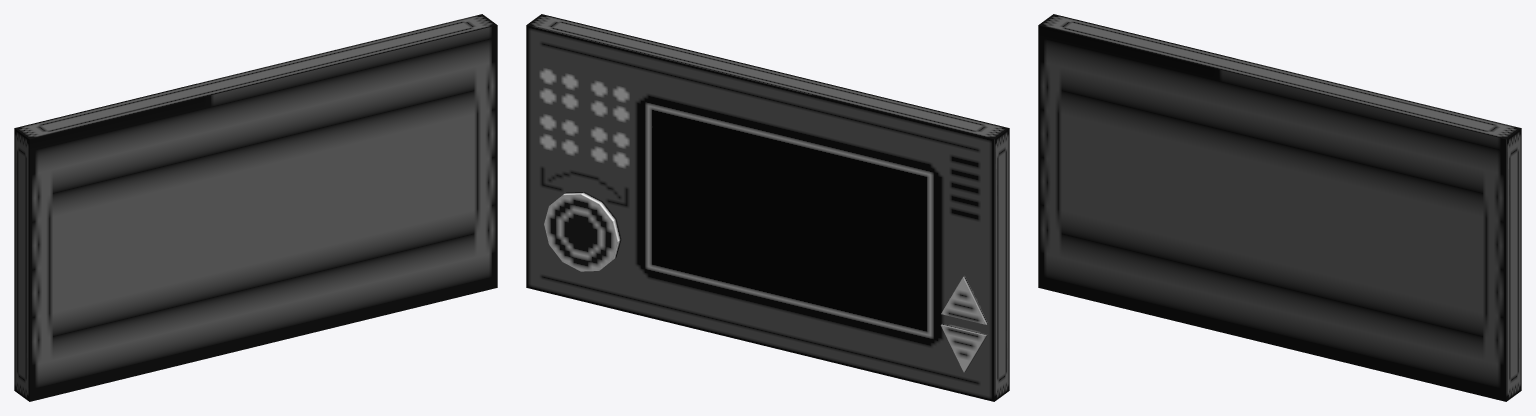
The model's file is handheld.fbx.
The picture shows the model from 3 angles, left to right: view 1: azimuth 30°, elevation 25°; view 2: azimuth 150°, elevation 25°; view 3: azimuth 330°, elevation 25°; orthographic projection.
Parts seen in each view (by area): view 1: Cylinder; view 2: Cylinder; view 3: Cylinder.
Boxes of the visible parts, <box> form: Cylinder: <box>14,14,497,401</box>; Cylinder: <box>526,14,1009,401</box>; Cylinder: <box>1038,14,1521,401</box>.
Size of the model in its own units: 0.7 by 0.375 by 0.05.
